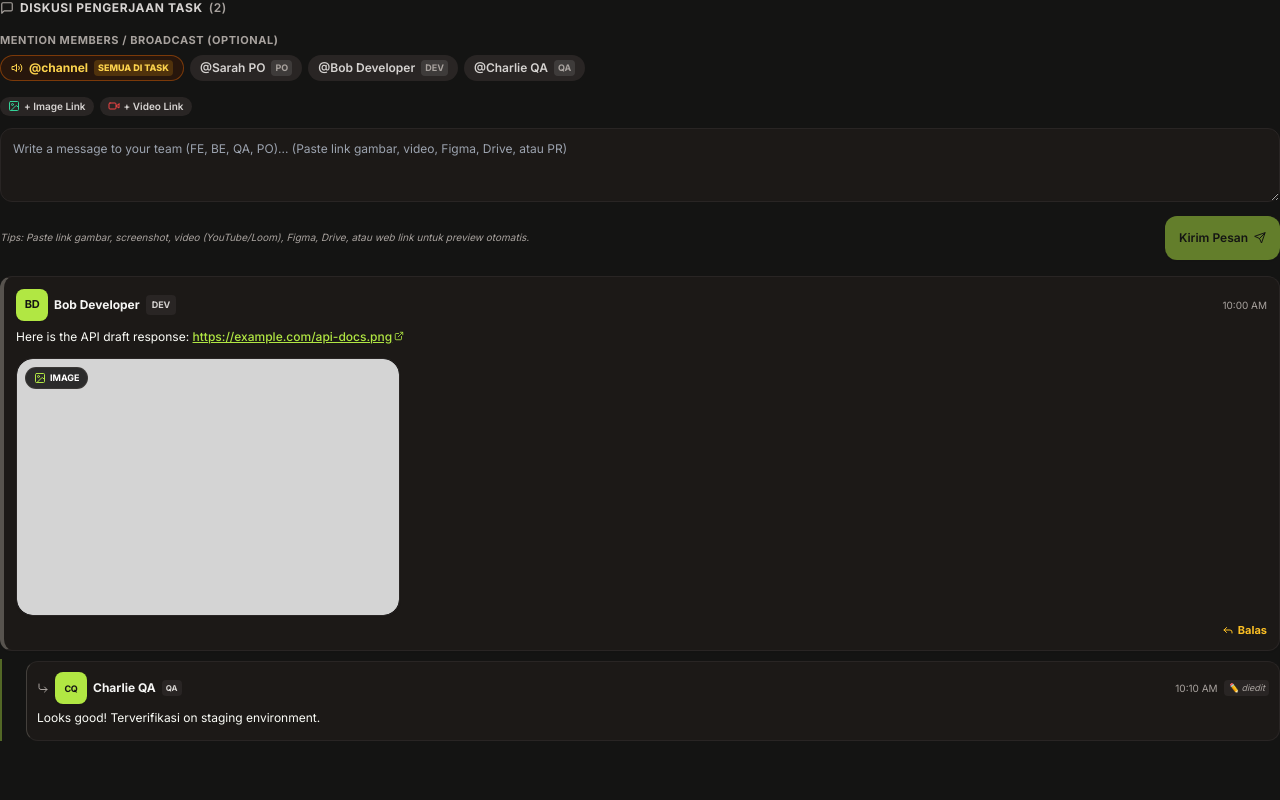
Test: TaskCommentBox Molecule Component › adds an image link to an inline reply through the application modal
Click the button "Balas": (1244, 630) x1=1222 y1=622 x2=1267 y2=638
(page scrolled)
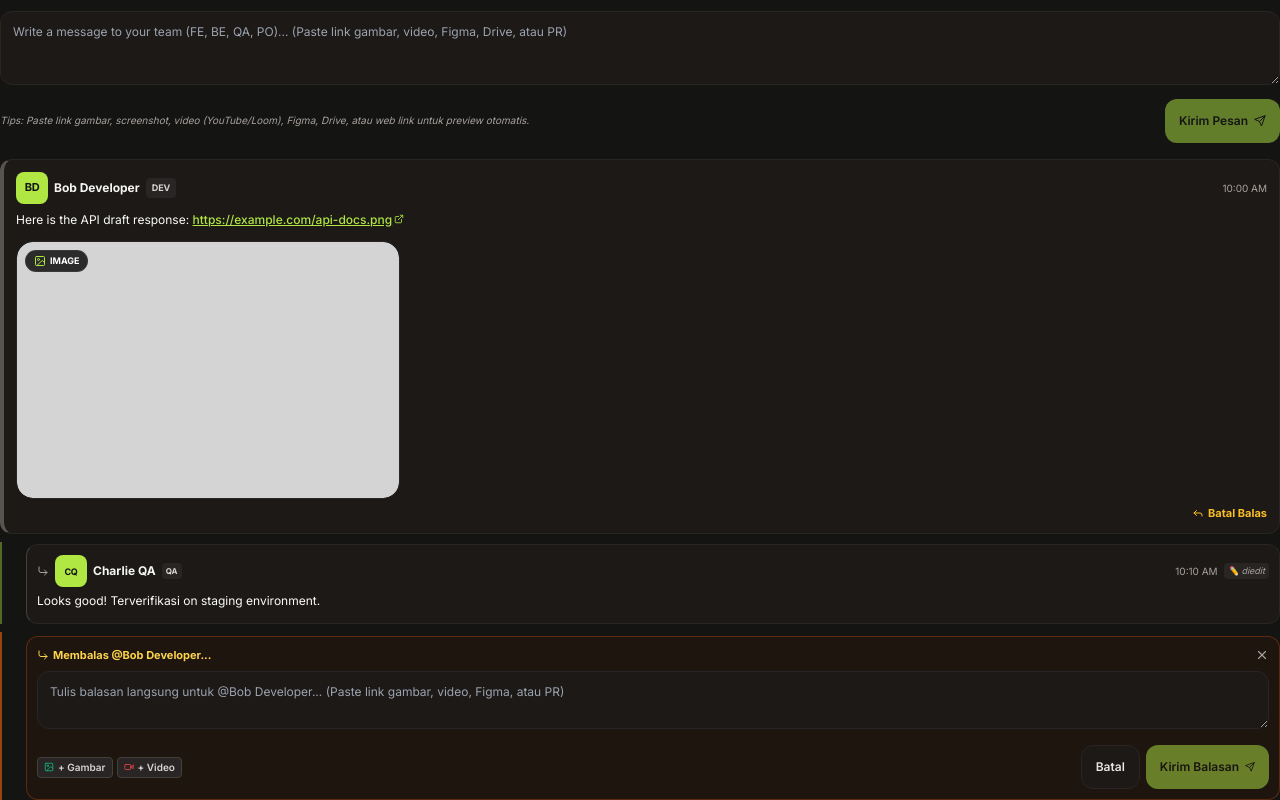
Click the button "+ Gambar": (75, 767) x1=37 y1=756 x2=112 y2=778
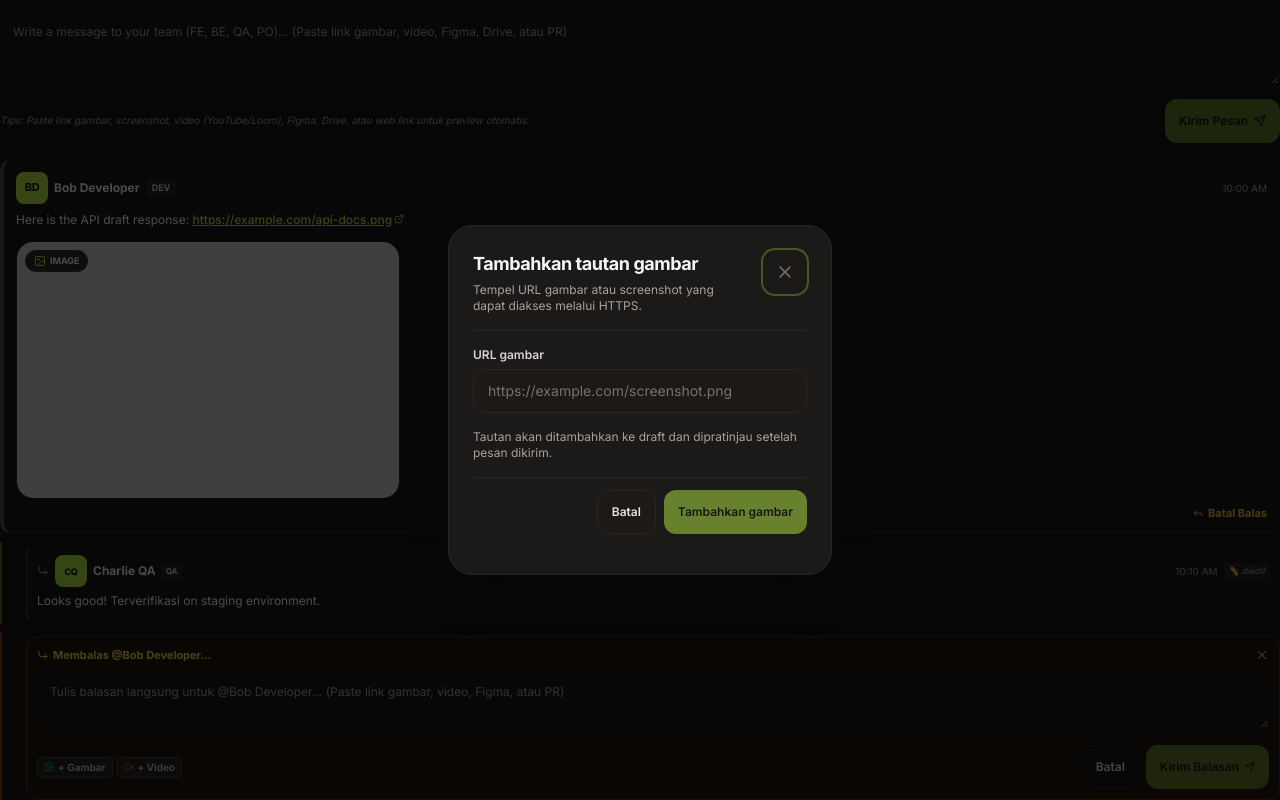
In the field labelled "URL gambar": (640, 391) x1=473 y1=369 x2=807 y2=413, type "https://example.com/reply-screenshot.png"
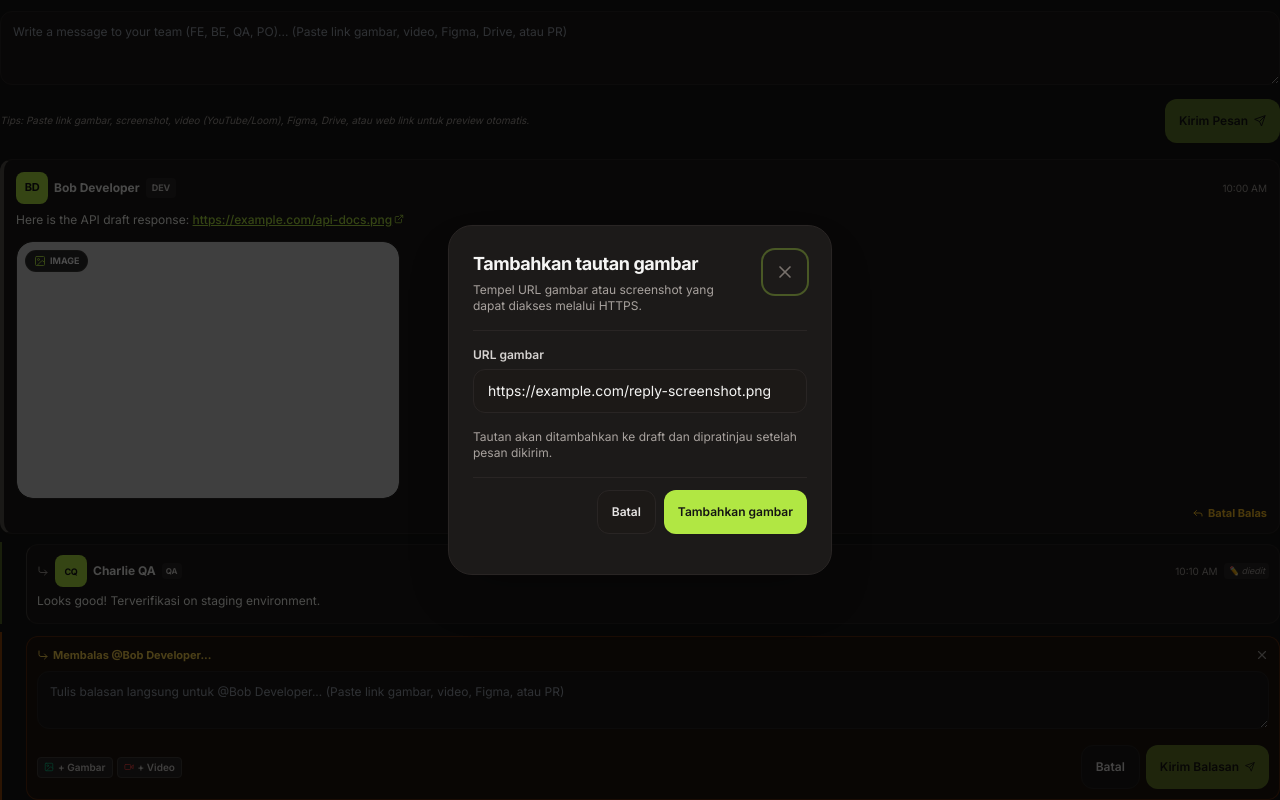
Click the button "Tambahkan gambar": (735, 512) x1=664 y1=490 x2=807 y2=534
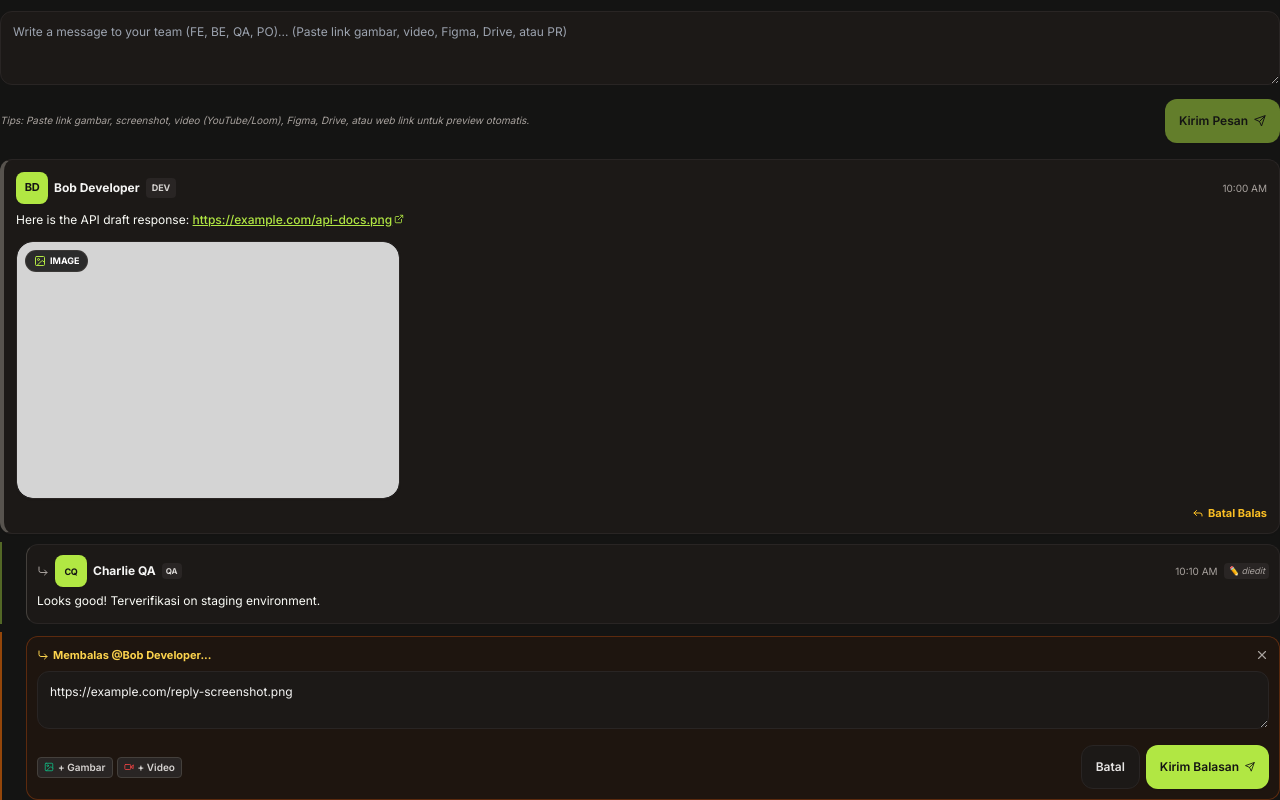
expect the text box with placeholder "Tulis balasan langsung untuk @Bob Developer" holds "https://example.com/reply-screenshot.png": met, box x1=37 y1=671 x2=1269 y2=729
